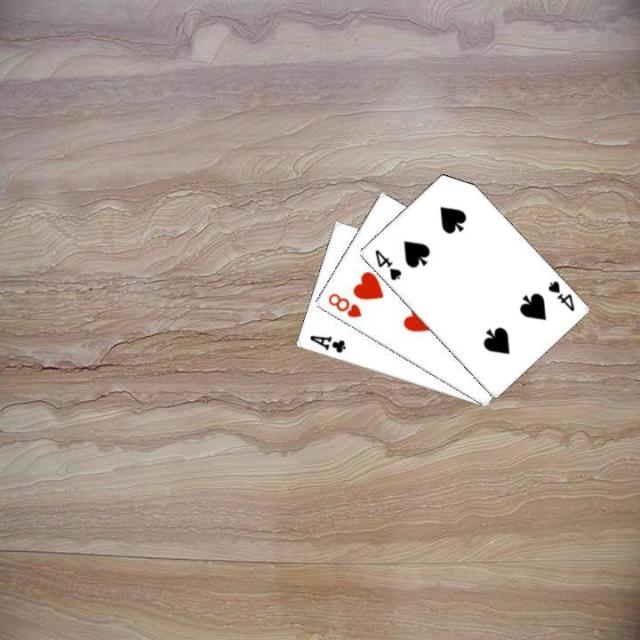4S: (543, 276, 576, 313), (370, 245, 402, 282)
8H: (323, 289, 362, 319)
AC: (306, 332, 348, 354)
